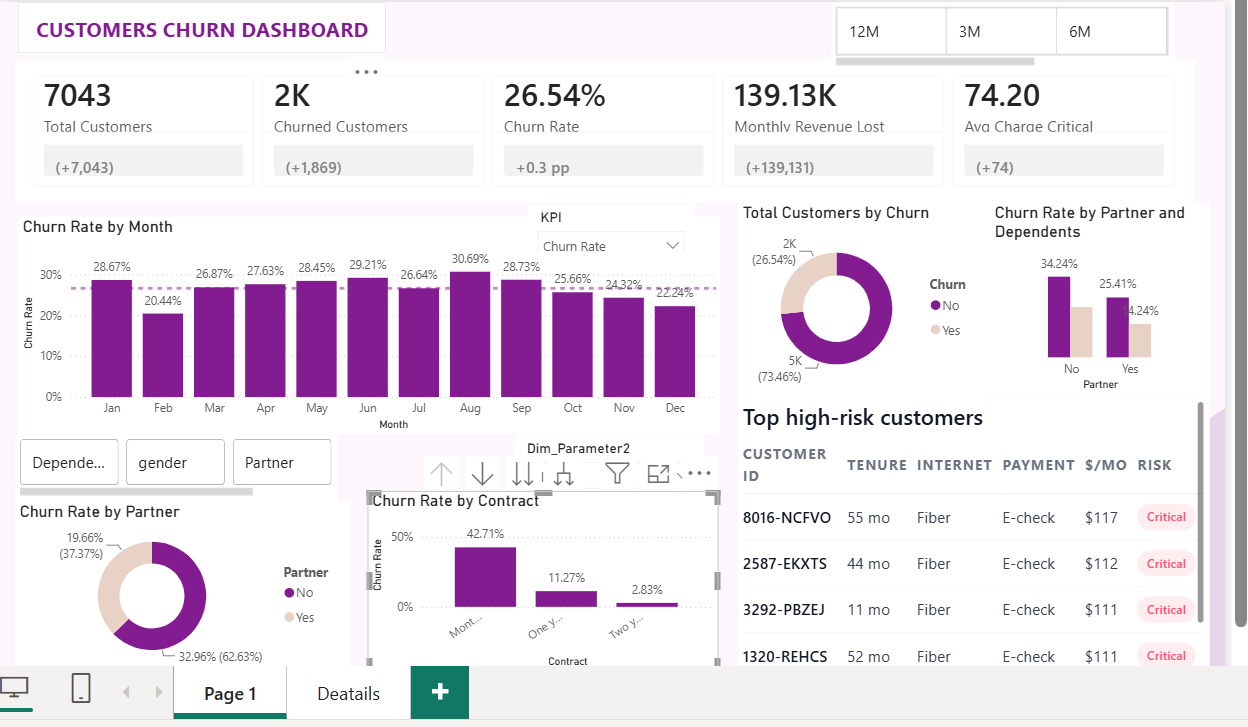

The page's visual inventory and layout, read from the dashboard file:
{"tool":"powerbi","page":{"name":"Page 1","canvas":[1280,720],"ordinal":0},"visuals":[{"type":"cardVisual","fields":{"Data":["_Measures.Total Customers","_Measures.Churned Customers","_Measures.Churn Rate","_Measures.Monthly Revenue Lost","_Measures.Avg Charge Critical"]},"box":[19.2,59.6,1230.8,150],"z":0},{"type":"advancedSlicerVisual","fields":{"Values":["Time Period Table.Time Period"]},"box":[869.2,0,357.7,73.1],"z":1000},{"type":"clusteredColumnChart","fields":{"Y":["_Measures.Churn Rate"],"Category":["Date.Month"]},"box":[21.2,223.1,732.7,226.9],"z":2000},{"type":"donutChart","fields":{"Y":["_Measures.Total Customers"],"Category":["Telco_Churn.Churn"]},"box":[772.7,209.6,262.8,200.2],"z":3000},{"type":"advancedSlicerVisual","fields":{"Values":["Dim_parameter.Dim_parameter"]},"box":[19.2,450,336.5,71.2],"z":4000},{"type":"donutChart","fields":{"Category":["Telco_Churn.Dependents","Telco_Churn.gender","Telco_Churn.Partner","Telco_Churn.SeniorCitizen"],"Y":["_Measures.Churn Rate"]},"box":[19.2,521.2,350,176.9],"z":5000},{"type":"slicer","fields":{"Values":["Dim_Parameter2.Dim_Parameter2"]},"box":[540.4,451.9,198.1,57.7],"z":6000},{"type":"clusteredColumnChart","fields":{"Category":["Telco_Churn.Contract","Telco_Churn.InternetService","Telco_Churn.TechSupport","Telco_Churn.PaymentMethod","Telco_Churn.Tenure Bucket"],"Y":["_Measures.Churn Rate"]},"box":[386.5,509.6,365.4,188.5],"z":7000},{"type":"htmlContent443BE3AD55E043BF878BED274D3A6865","fields":{"content":["Date.Top Risk Customers HTML"]},"box":[773.1,409.6,492.3,290.4],"z":8000},{"type":"slicer","fields":{"Values":["KPI 2.KPI"]},"box":[553.1,211.2,173.2,50.1],"z":9000},{"type":"shape","box":[21.2,0,384.6,53.8],"z":10000},{"type":"clusteredColumnChart","fields":{"Category":["Telco_Churn.Partner"],"Y":["_Measures.Churn Rate"],"Series":["Telco_Churn.Dependents"]},"box":[1035.5,209.8,230.3,199.6],"z":11000}]}

Visuals, with their boxes on the page's 1280x720 design canvas (x1, y1, x2, y2). These are canvas units, not pixel positions in the 1248x727 screenshot, which may show the page scaled, cropped or inside an application window:
cardVisual - _Measures.Total Customers x _Measures.Churned Customers: {"left": 19, "top": 60, "right": 1250, "bottom": 210}
advancedSlicerVisual - Time Period Table.Time Period: {"left": 869, "top": 0, "right": 1227, "bottom": 73}
clusteredColumnChart - _Measures.Churn Rate x Date.Month: {"left": 21, "top": 223, "right": 754, "bottom": 450}
donutChart - _Measures.Total Customers x Telco_Churn.Churn: {"left": 773, "top": 210, "right": 1036, "bottom": 410}
advancedSlicerVisual - Dim_parameter.Dim_parameter: {"left": 19, "top": 450, "right": 356, "bottom": 521}
donutChart - Telco_Churn.Dependents x Telco_Churn.gender: {"left": 19, "top": 521, "right": 369, "bottom": 698}
slicer - Dim_Parameter2.Dim_Parameter2: {"left": 540, "top": 452, "right": 738, "bottom": 510}
clusteredColumnChart - Telco_Churn.Contract x Telco_Churn.InternetService: {"left": 386, "top": 510, "right": 752, "bottom": 698}
htmlContent443BE3AD55E043BF878BED274D3A6865 - Date.Top Risk Customers HTML: {"left": 773, "top": 410, "right": 1265, "bottom": 700}
slicer - KPI 2.KPI: {"left": 553, "top": 211, "right": 726, "bottom": 261}
shape: {"left": 21, "top": 0, "right": 406, "bottom": 54}
clusteredColumnChart - Telco_Churn.Partner x _Measures.Churn Rate: {"left": 1036, "top": 210, "right": 1266, "bottom": 409}
